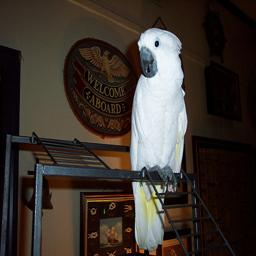bird: (198, 54, 256, 256)
